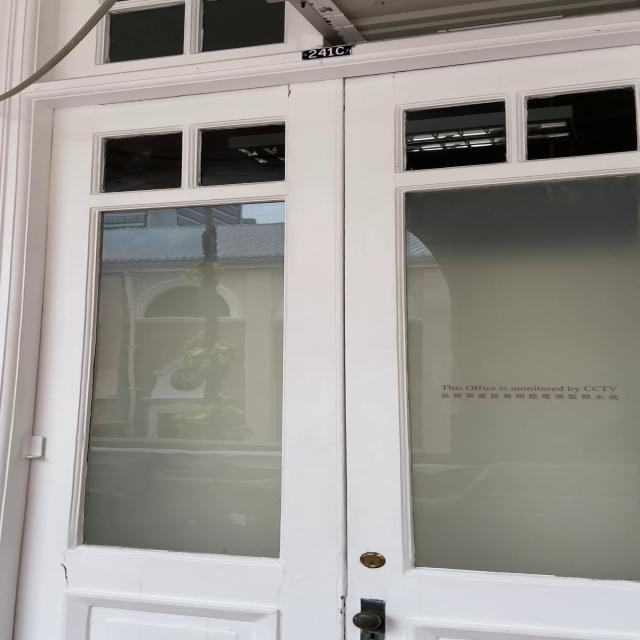room241c: (300, 42, 352, 64)
